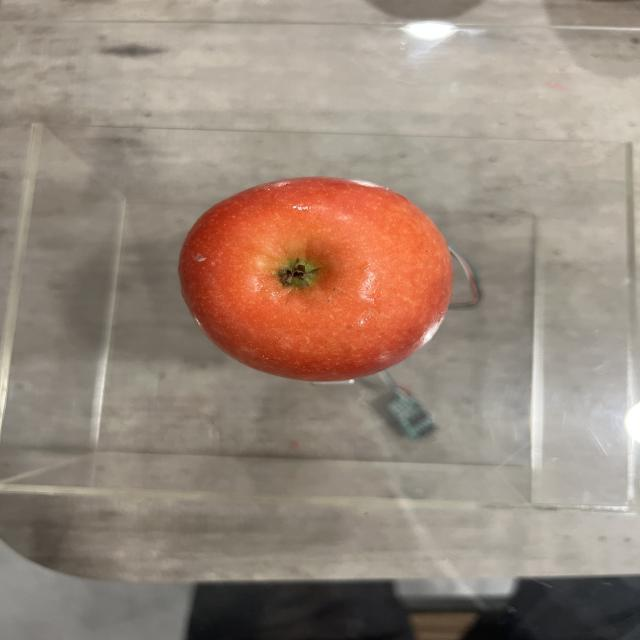red apple: (178, 182, 452, 376)
